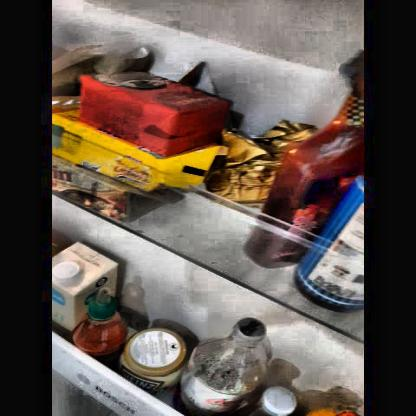butter: (51, 118, 195, 214)
milk: (52, 240, 105, 322)
